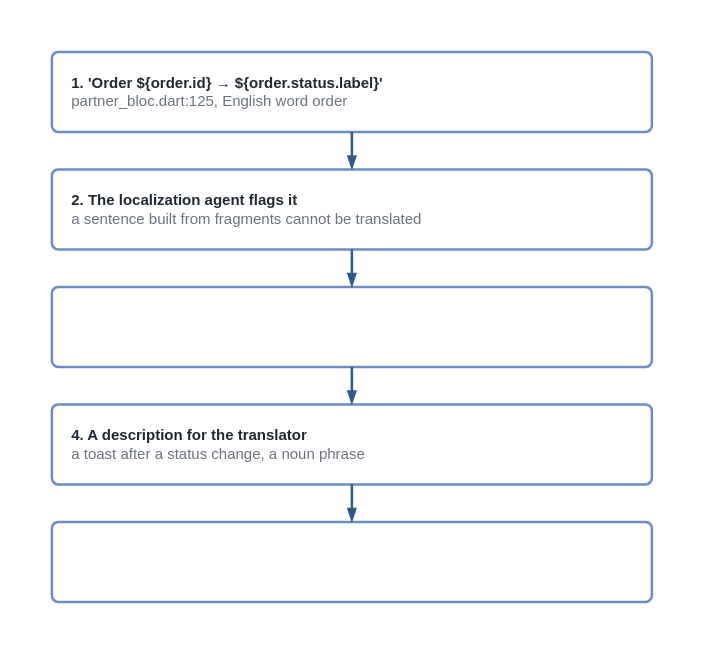
Some shapes in this 703 by 653 pixel diagram are drawn without their labels. Here are the shapes that lost their labels. From the top down, the box of each, then its label:
(50, 285, 652, 368): 3. One ICU message with placeholders orderStatusChanged(id, status)
(50, 520, 652, 602): 5. Width checked at +35% the snackbar still fits in a longer language
